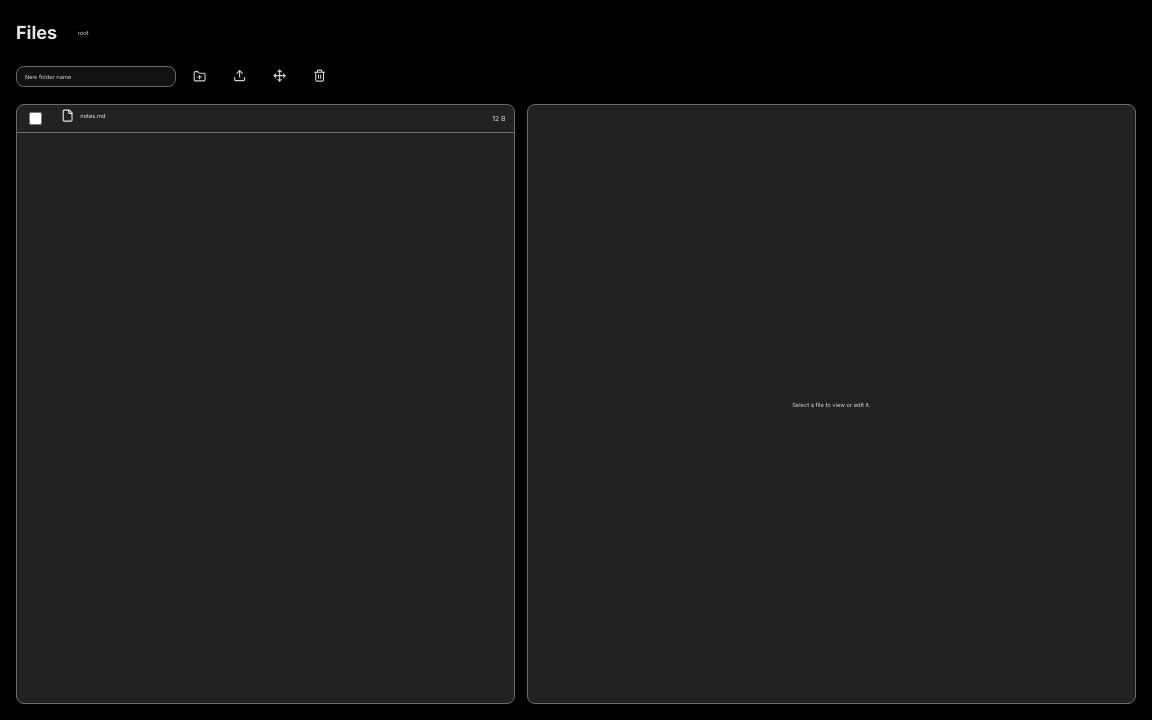
Test: FilesArea (Files, D-FILES) › opening a file, editing it, and saving into a stale mtime shows the conflict banner and offers Reload / Overwrite anyway
Click the text "notes.md" at (93,116), box [80,112,106,119]
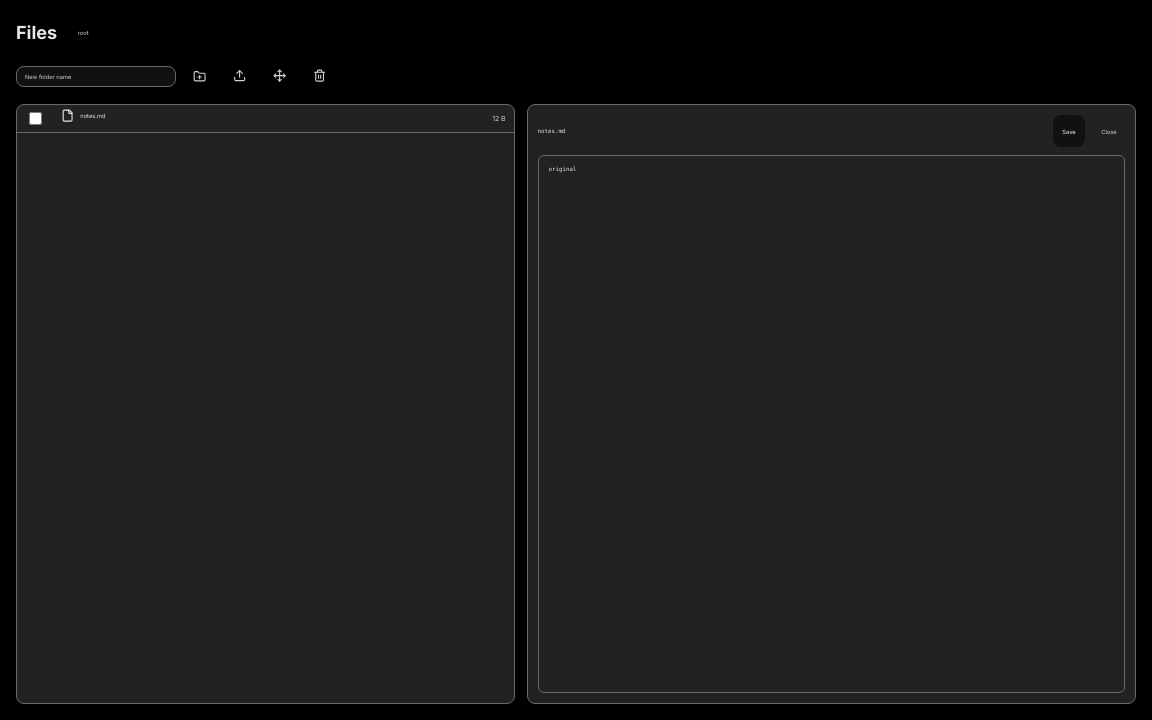
Expected: the text box named "file content" holds "original"
Replace the text in the text box named "file content" with "edited by me" at (831,424), box [538,155,1125,693]
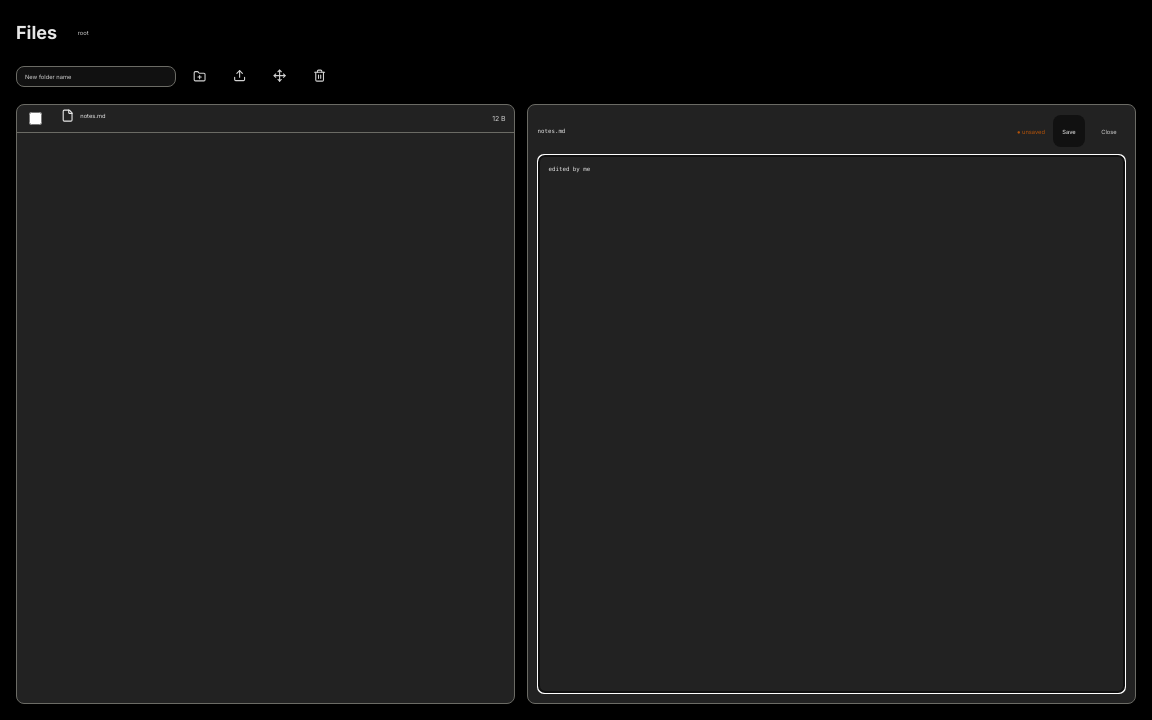
Click the button "Save" at (1069,131), box [1053,115,1085,147]
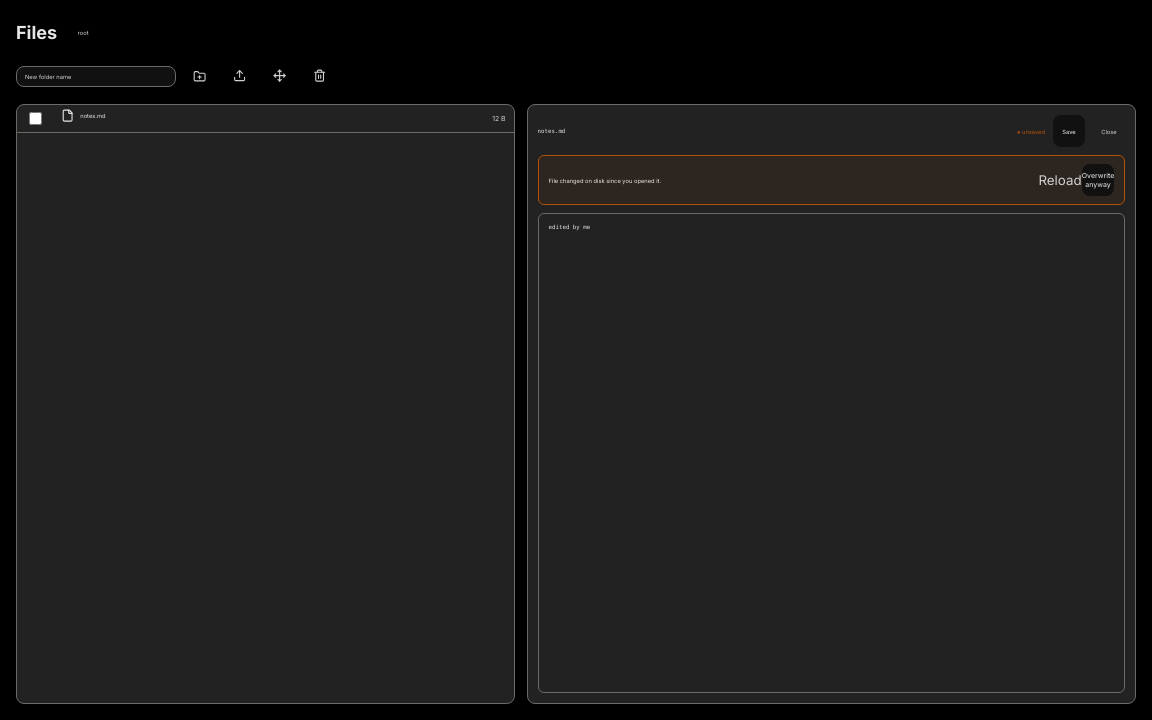
Expected: the element with test id "conflict-banner" is shown, [538,155,1125,205]
Expected: the button "Reload" is shown, [1044,164,1076,196]
Expected: the button "Overwrite anyway" is shown, [1082,164,1114,196]
